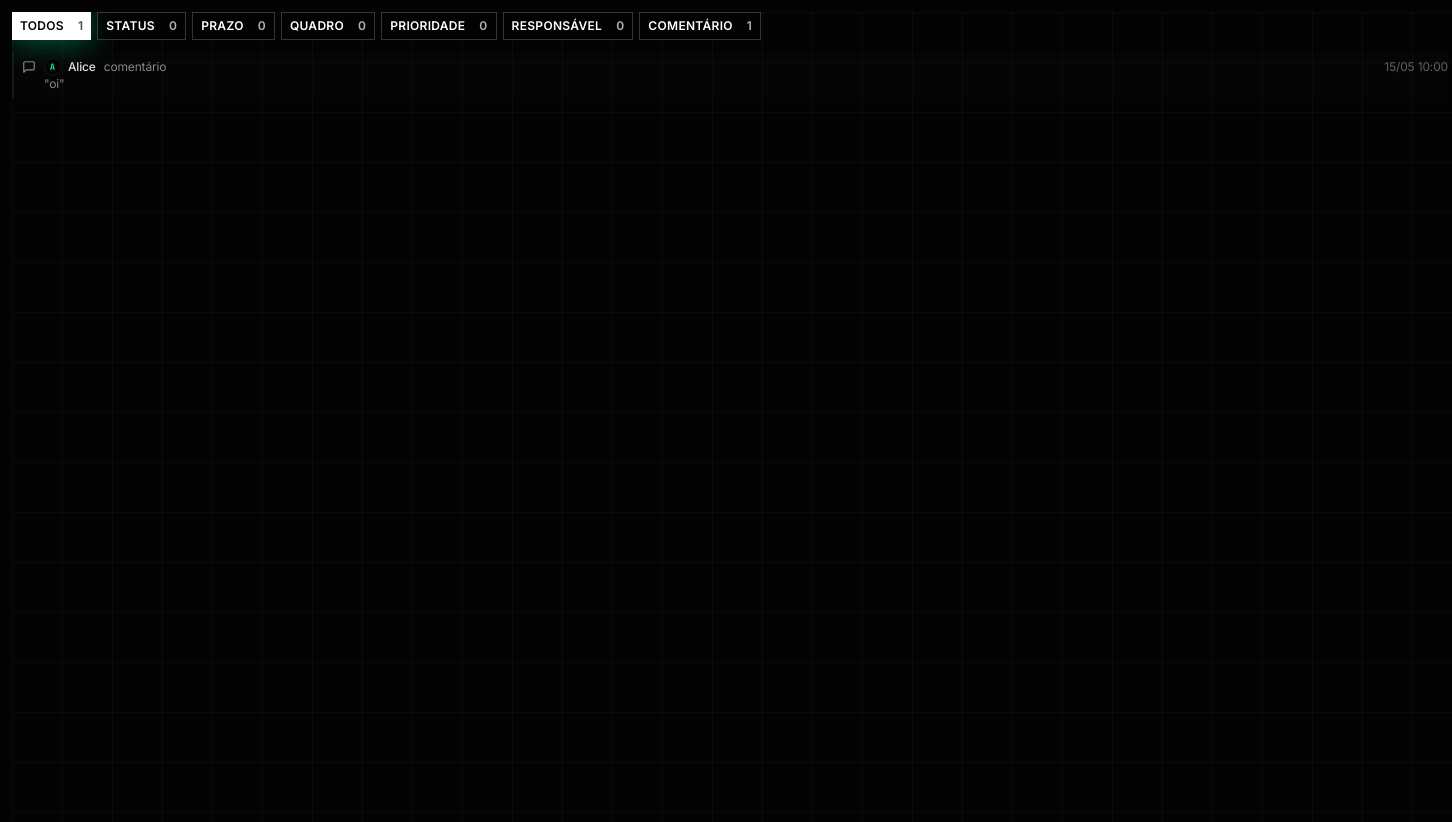
TaskHistoryView — filtros e renderização › mostra estado vazio quando filtro não tem itens
Click the button with test id "history-filter-status" at (142, 26), box [97,12,186,40]
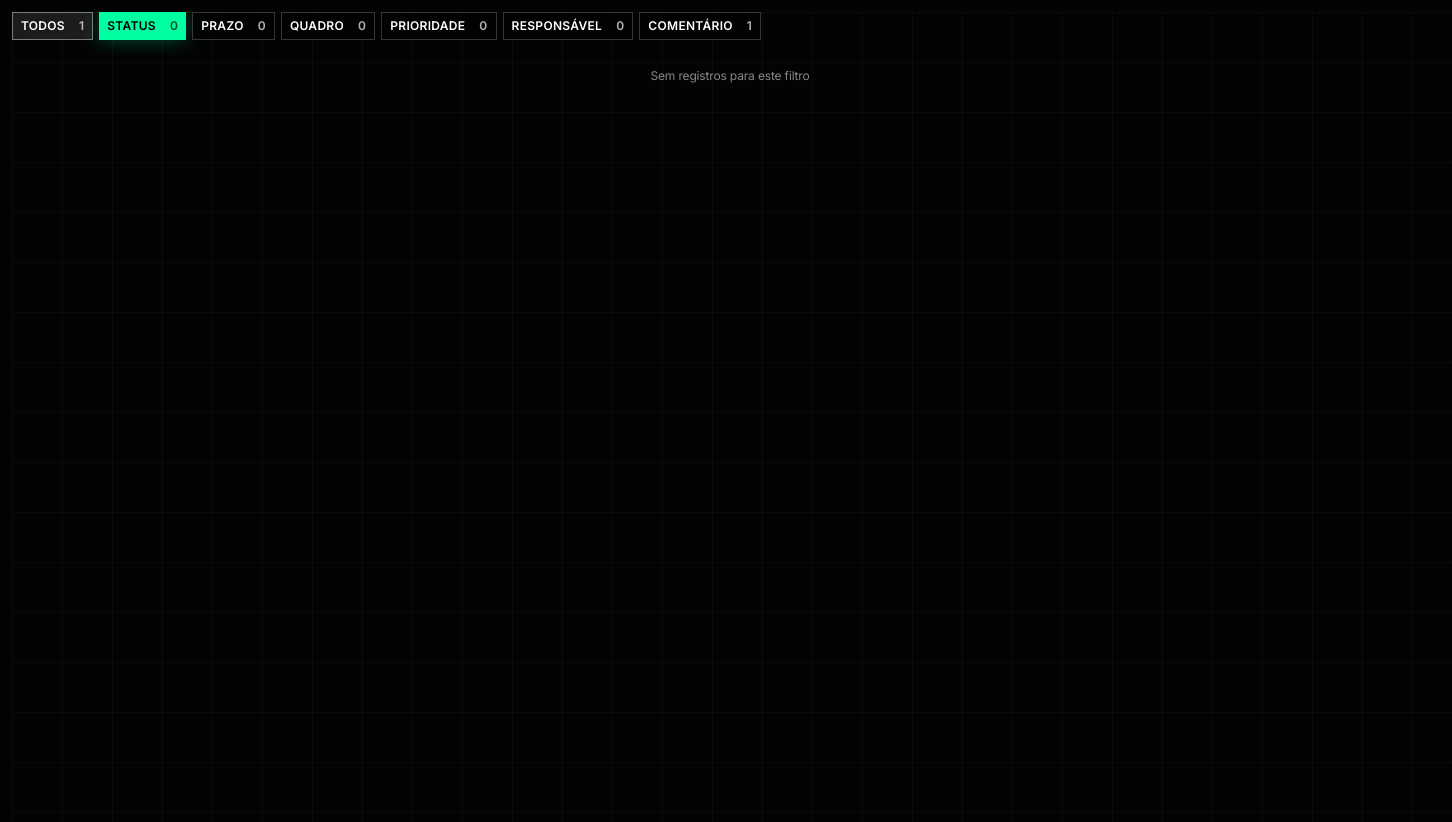
Check: the list item "Sem registros para este filtro" is shown, box [650,68,810,83]
